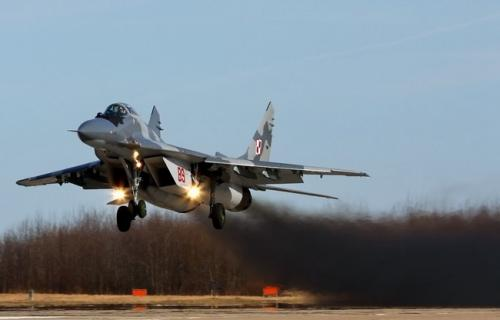smoke: (208, 186, 500, 311)
